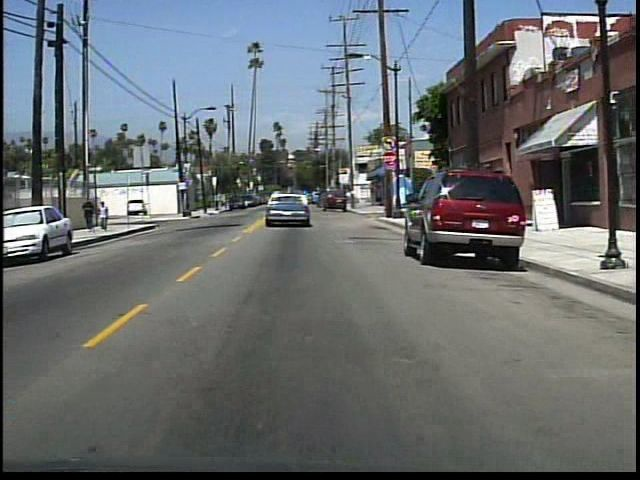person: (82, 194, 99, 233), (99, 200, 113, 233)
